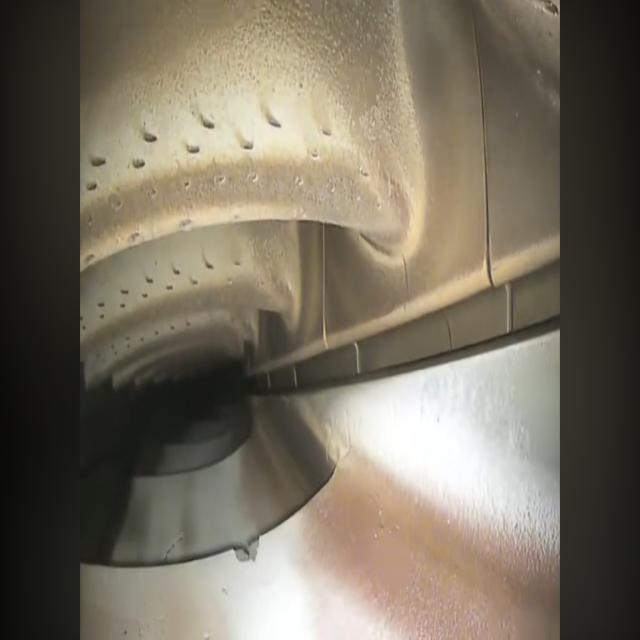turbine_blade: (77, 0, 411, 269), (80, 222, 294, 361)
